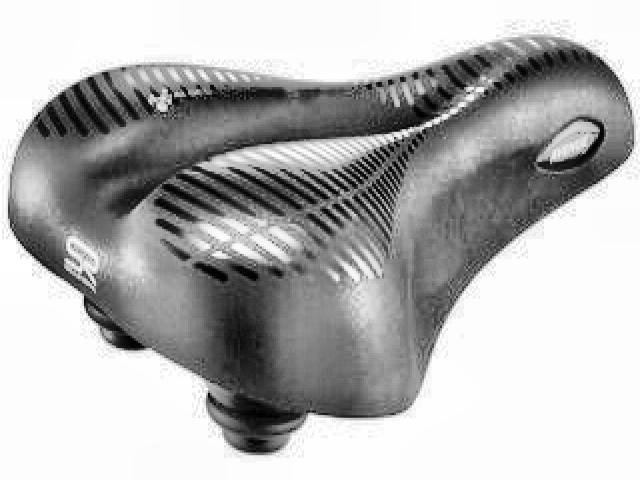saddle: (5, 26, 636, 454)
